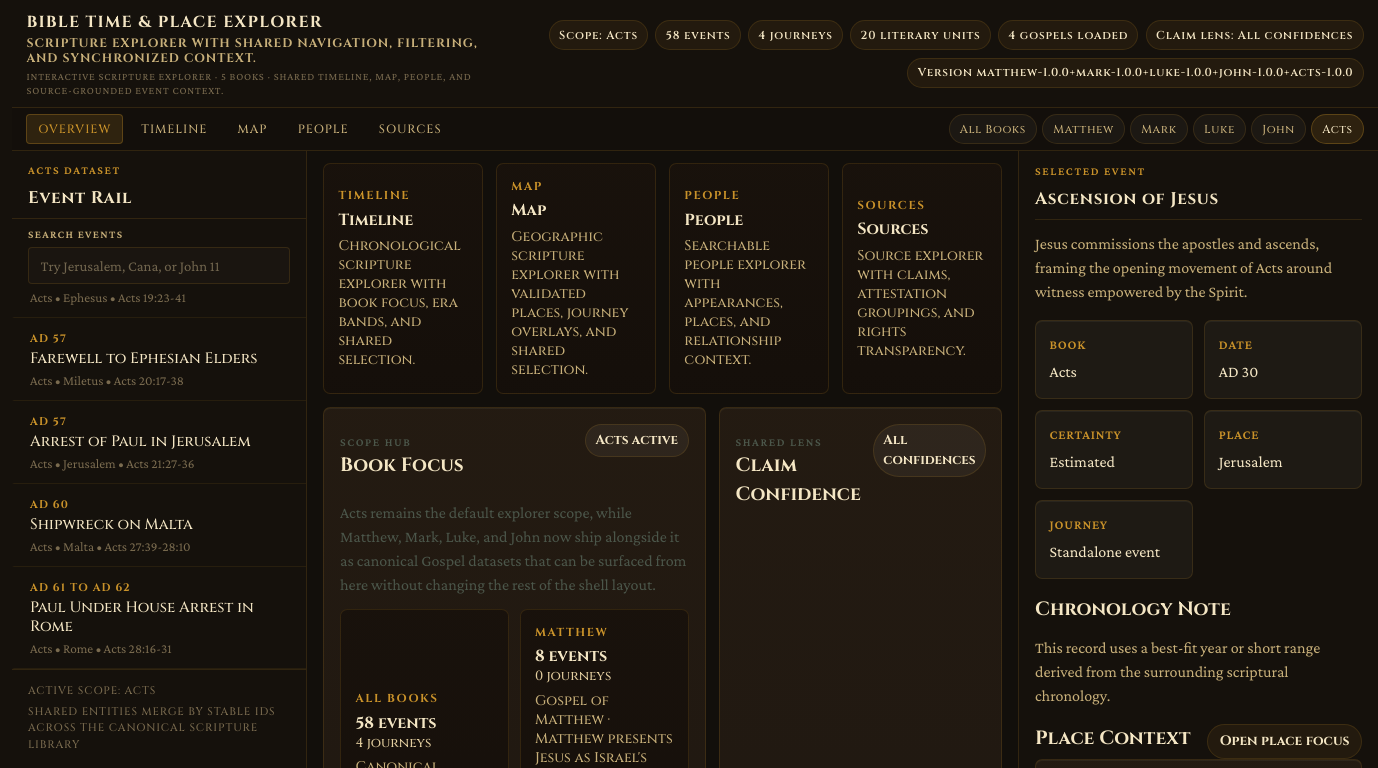
Scenario: App › renders source-grounded inspector context for the selected event
(page scrolled)
Click the button "AD 60 Shipwreck on Malta Acts • Malta • Acts 27:39-28:10" at (159, 525), box [12,483,306,566]
(page scrolled)
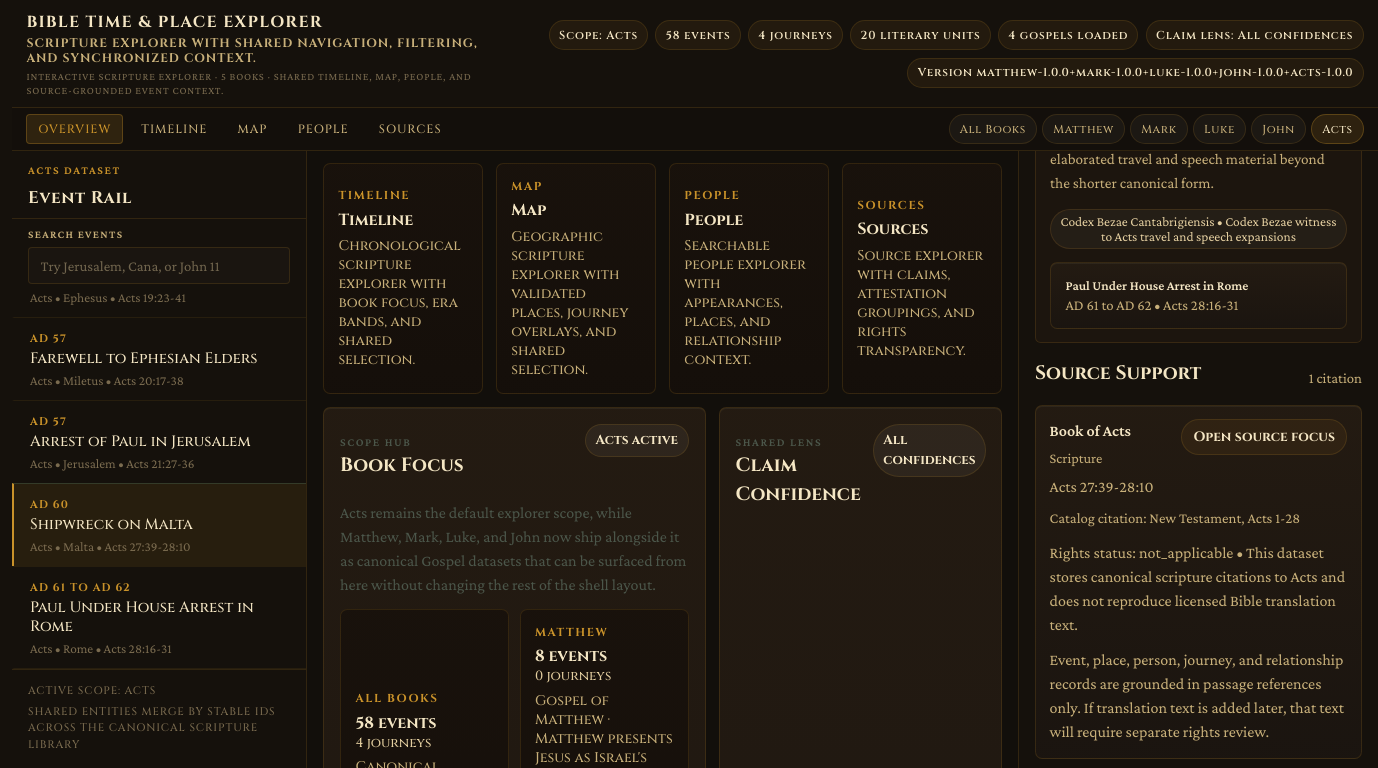
Now the heading "Source Support" is shown, box [1035,359,1201,388]
Now the text "Scripture" is shown, box [1050,450,1102,466]
